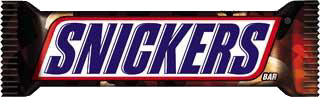grozi_12: (0, 0, 319, 96)
